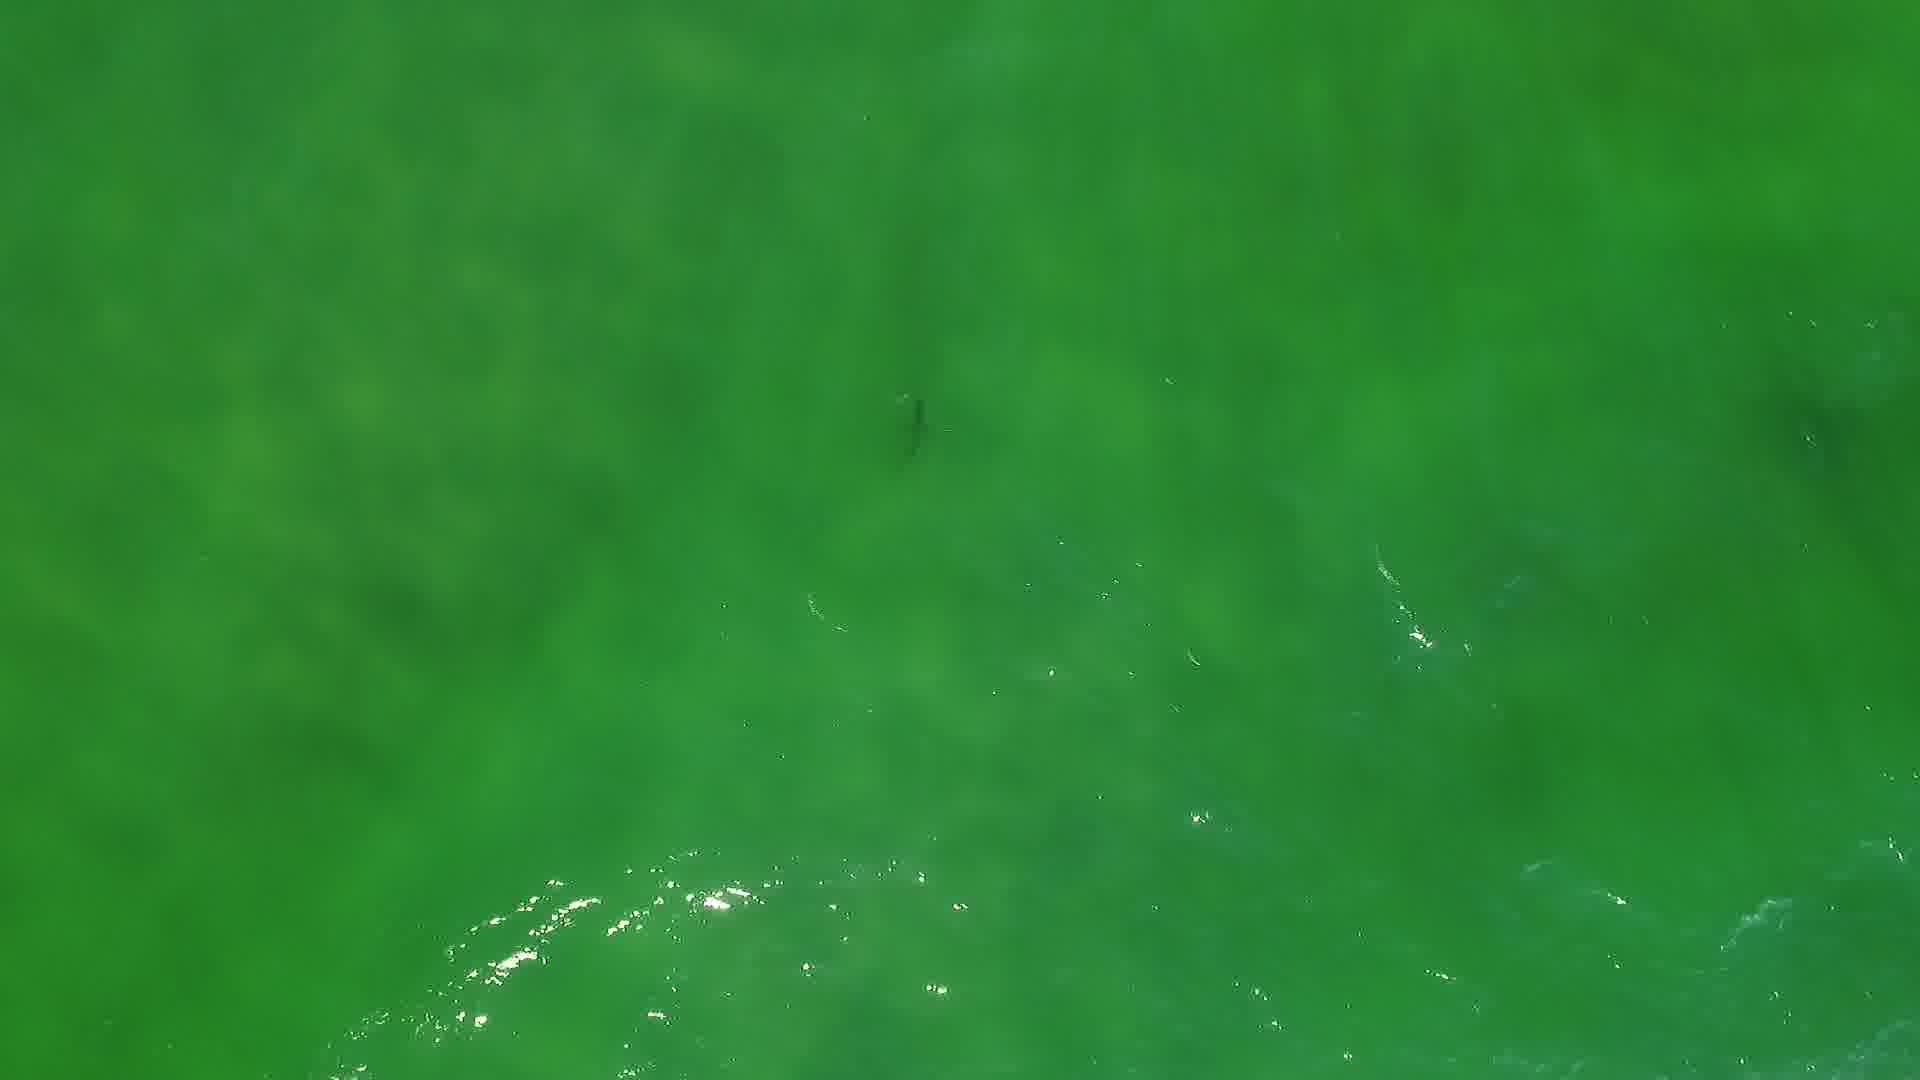shark: (898, 396, 938, 465)
